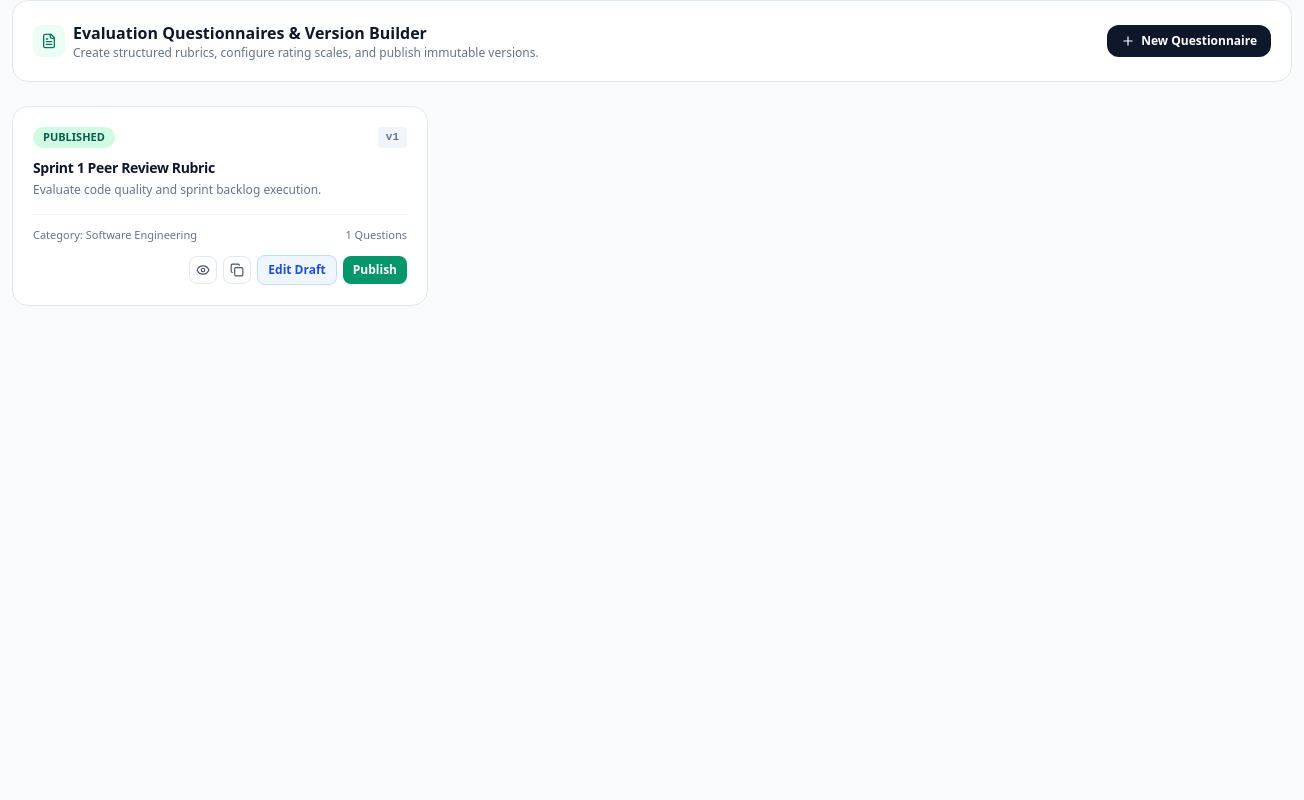
it: Stage 5: Frontend Directory, Questionnaire Builder & Feedback Rounds › 3. QuestionnaireBuilder Component › renders questionnaire catalog and opens editor for creating new questionnaires
Expected: the heading "Sprint 1 Peer Review Rubric" is shown, [33,158,215,176]
Expected: the text "v1" is shown, [378,127,407,148]
# Click "New Questionnaire"
Step 1. Click the button "New Questionnaire" → (1189, 41), box [1107,25,1271,57]
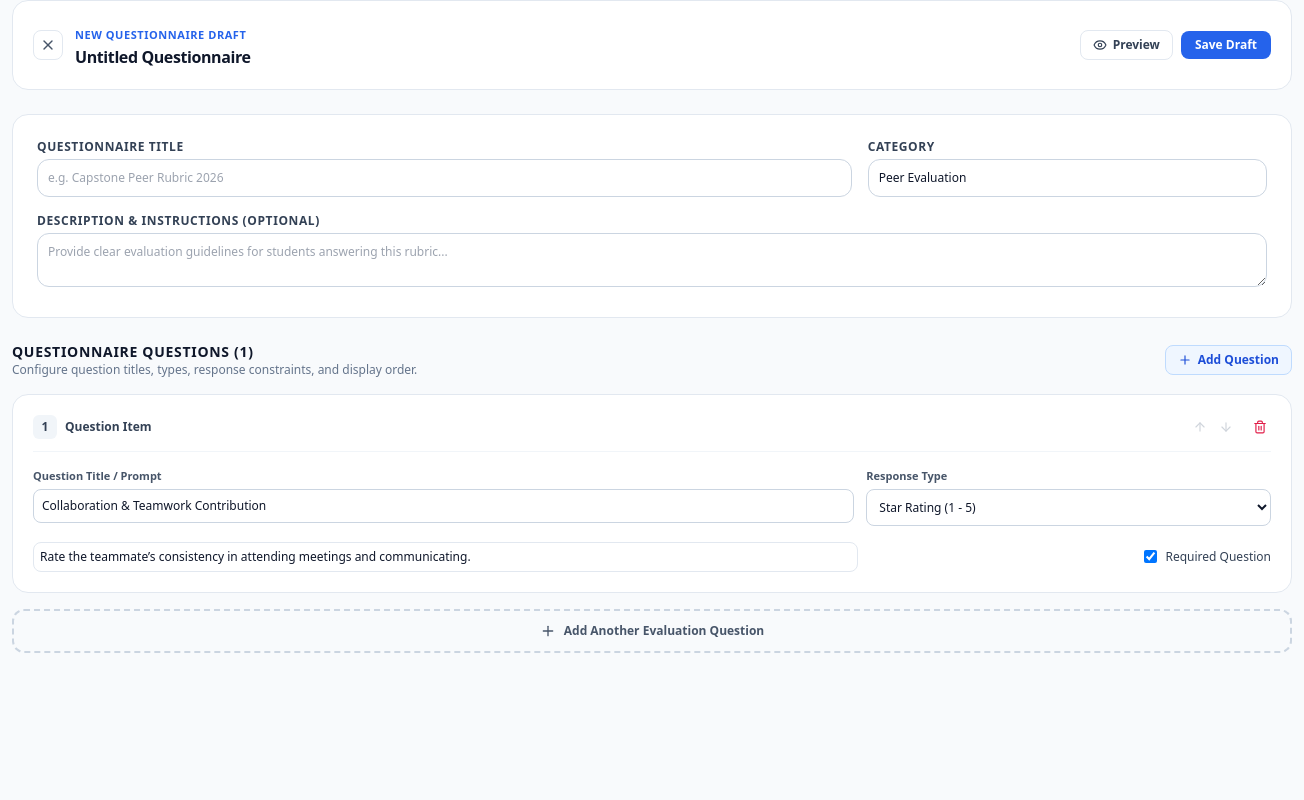
Now the text "New Questionnaire Draft" is shown, box [75,27,246,42]
Now the field with placeholder "e.g. Capstone Peer Rubric 2026" is shown, box [37,159,852,197]
Now the button "Save Draft" is shown, box [1181,31,1271,59]
